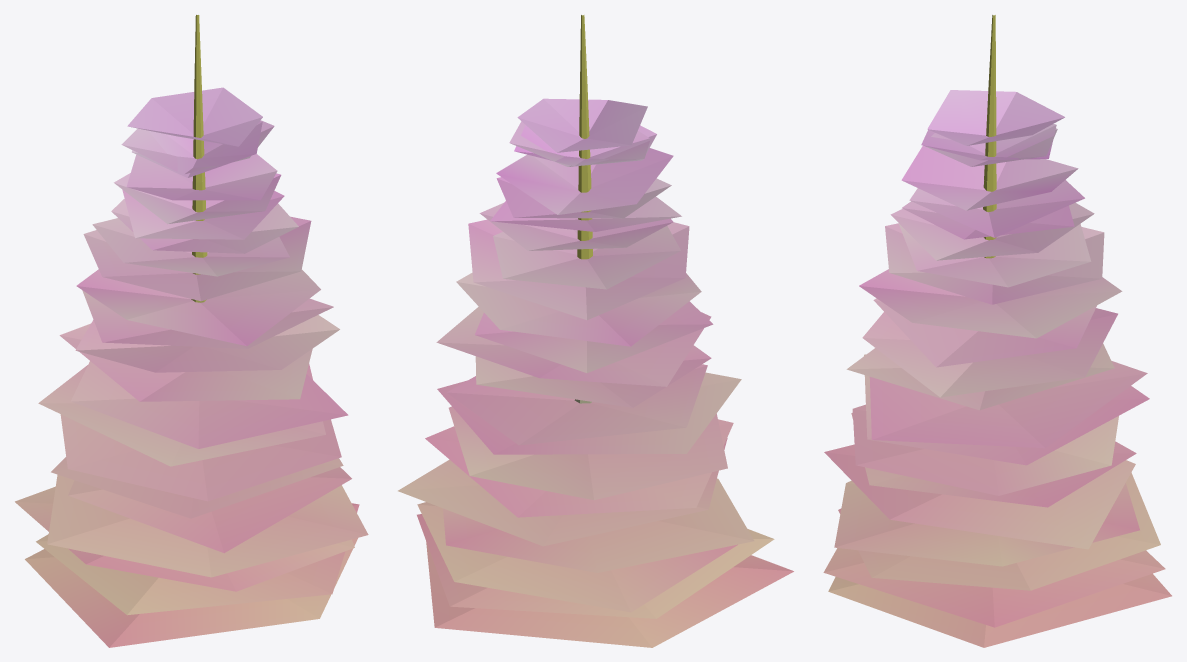
Rendered from tree_spruce_0.glb.
3 renders of one model, left to right at view 1: azimuth 30°, elevation 25°; view 2: azimuth 150°, elevation 25°; view 3: azimuth 270°, elevation 25°, orthographic.
Visible parts, largest first — view 1: tree_spruce_0; view 2: tree_spruce_0; view 3: tree_spruce_0.
Part boxes in pixels (box(x1,y1,x2,y2)): tree_spruce_0: box(15, 15, 368, 647); tree_spruce_0: box(398, 15, 793, 647); tree_spruce_0: box(823, 15, 1171, 647).
Size of the model in its own units: 6.78 by 11.3 by 6.32.
